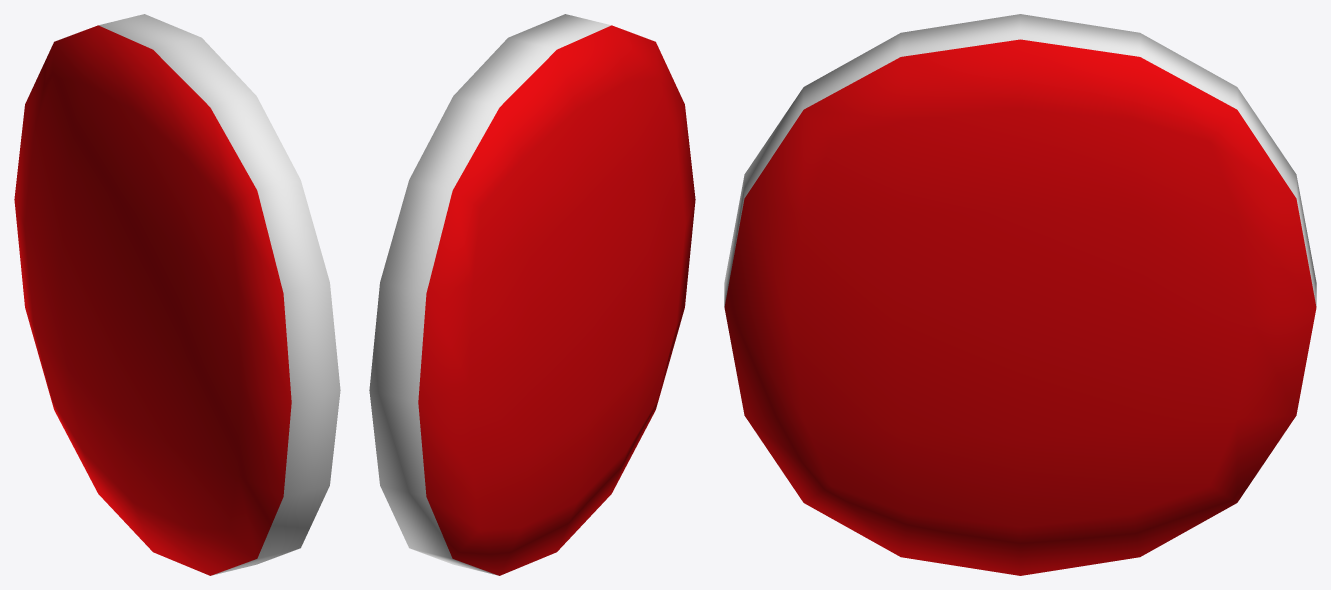
File: target.fbx
The picture shows the model from 3 angles, left to right: view 1: azimuth 30°, elevation 25°; view 2: azimuth 150°, elevation 25°; view 3: azimuth 270°, elevation 25°; orthographic projection. The views are drawn at different scales.
Visible parts, largest first — view 1: Cube; view 2: Cube; view 3: Cube.
Boxes of the visible parts, bbox=[...] form: Cube: bbox=[14, 14, 340, 575]; Cube: bbox=[369, 14, 695, 575]; Cube: bbox=[724, 14, 1316, 575].
Size of the model in its own units: 27.88 by 109 by 109.
